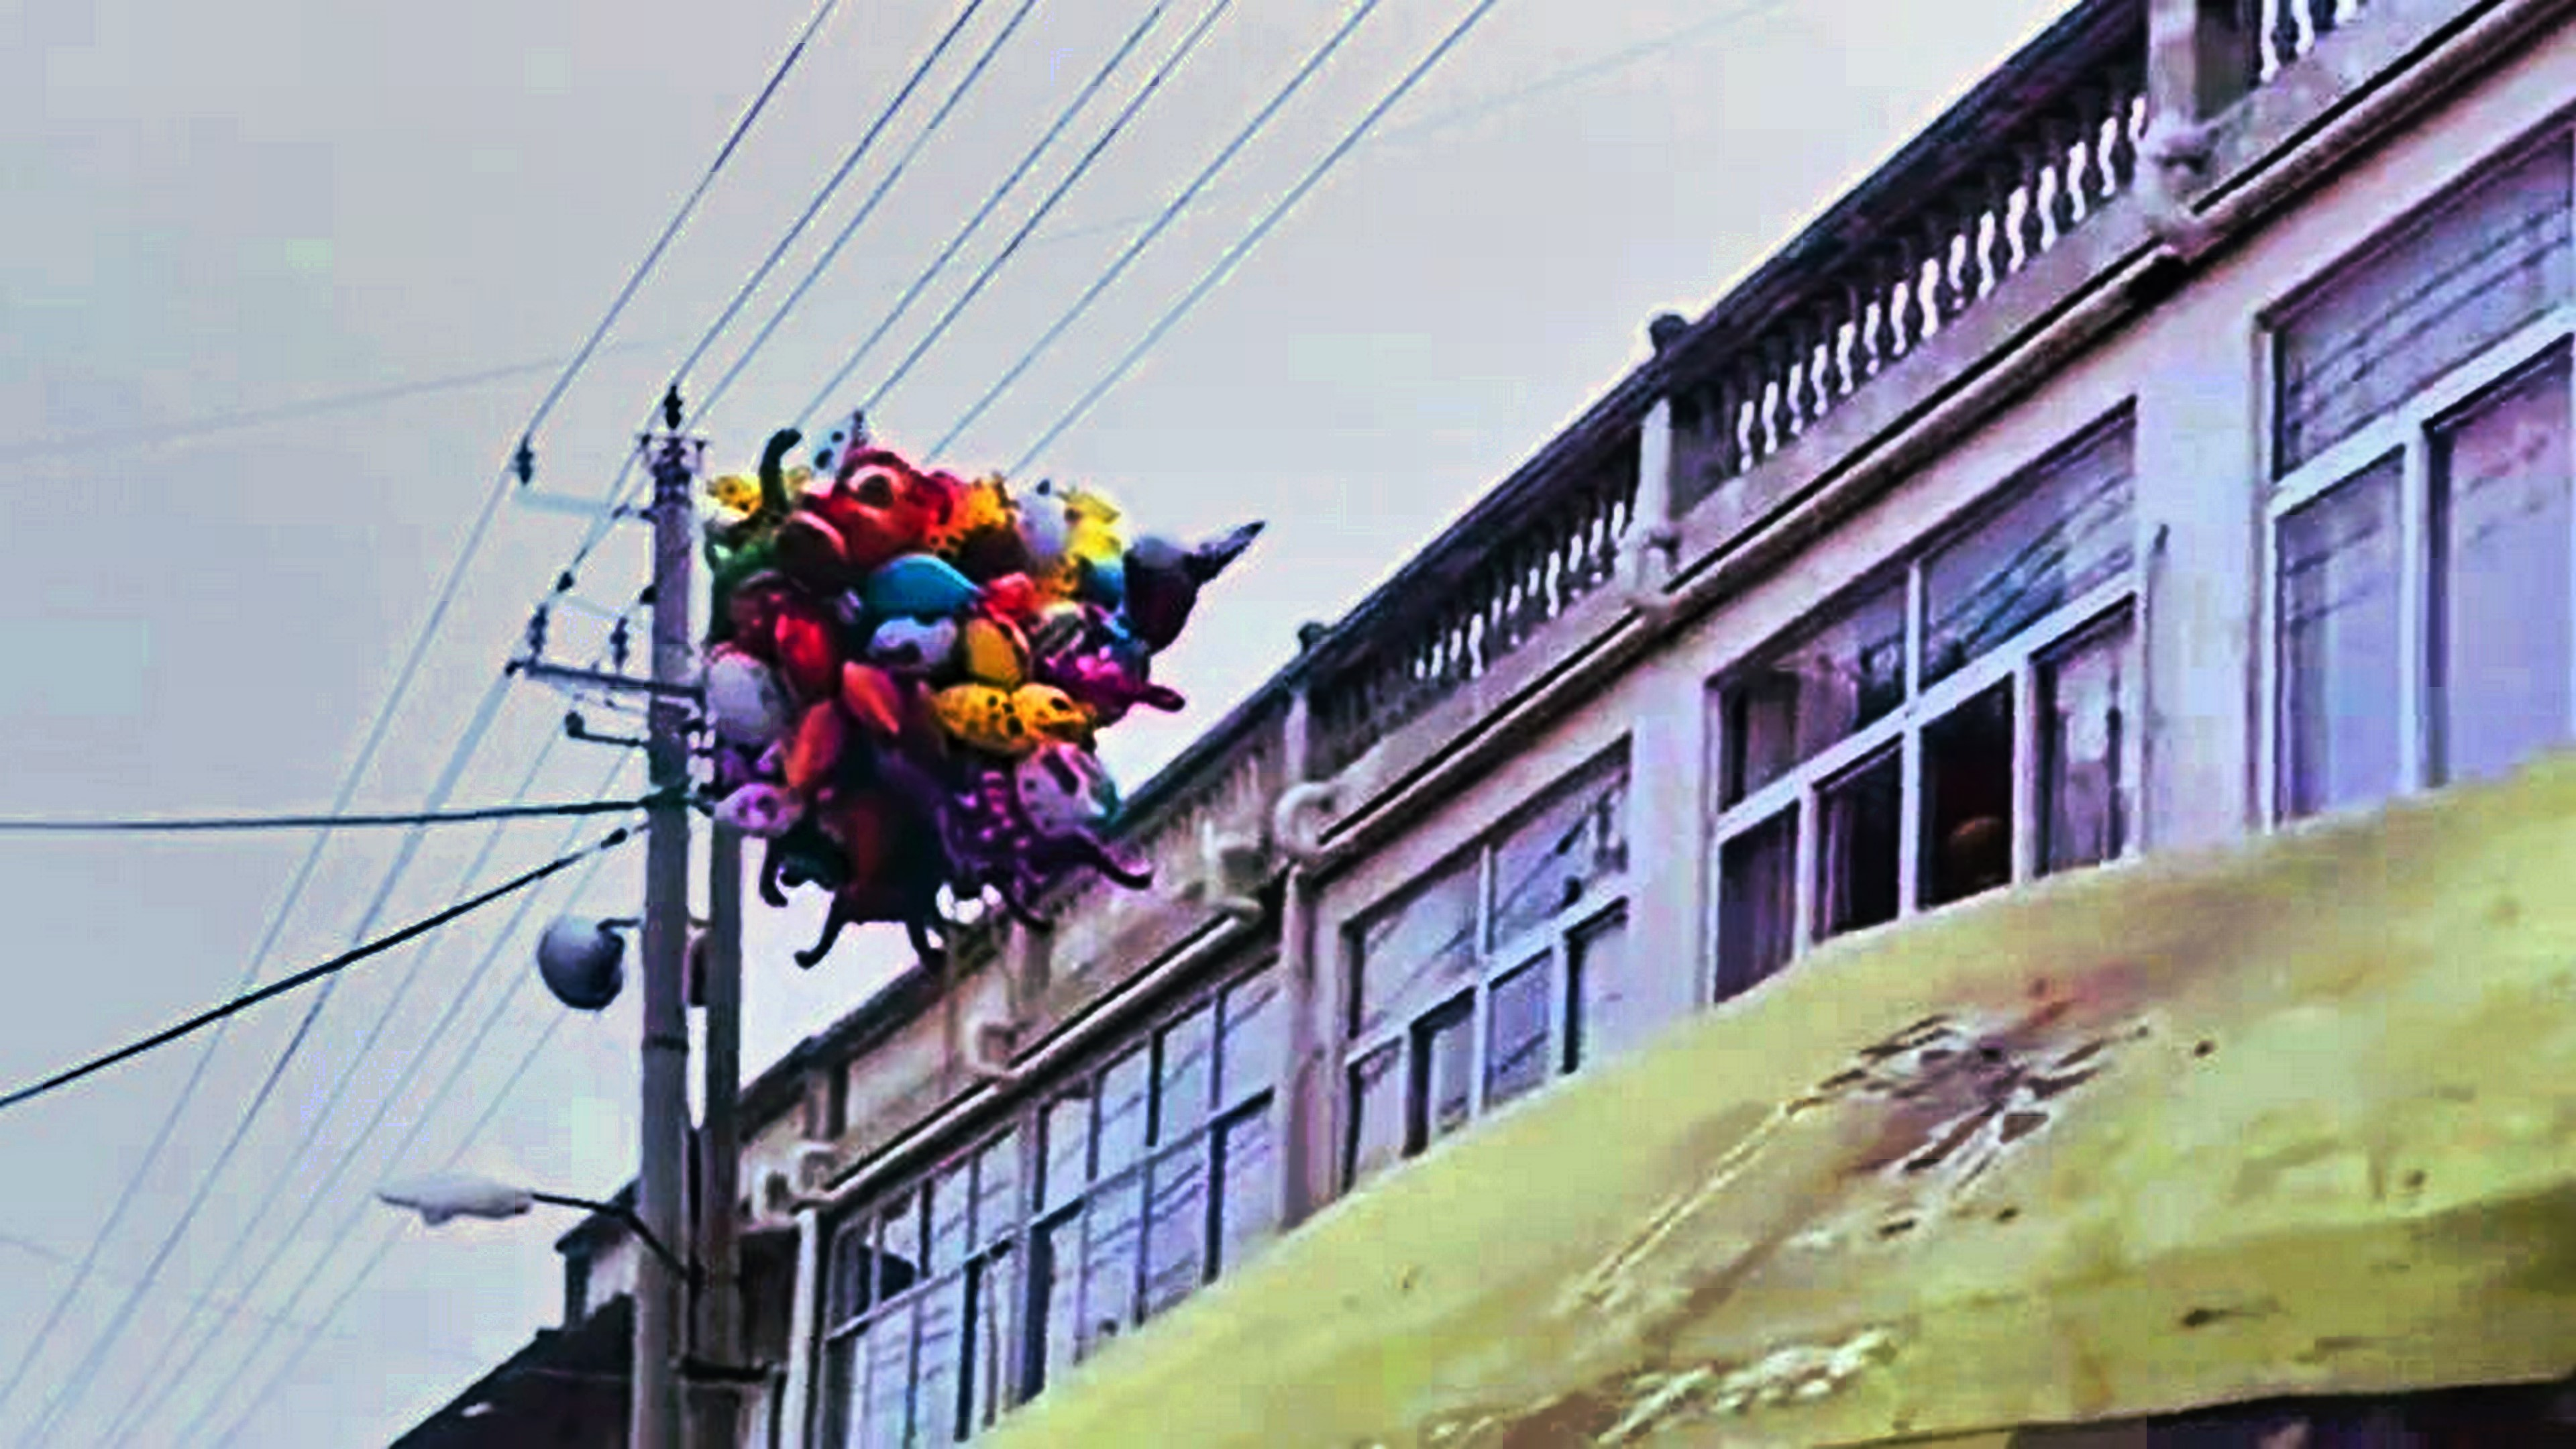wire foreign body: (658, 387, 1240, 989)
